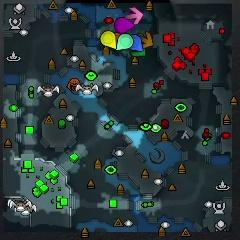p1: (129, 34, 142, 52)
p2: (116, 33, 133, 50)
p3: (115, 18, 134, 33)
p4: (100, 31, 116, 50)
x1: (125, 7, 144, 25)
x4: (130, 49, 146, 57)
x5: (139, 32, 153, 48)
